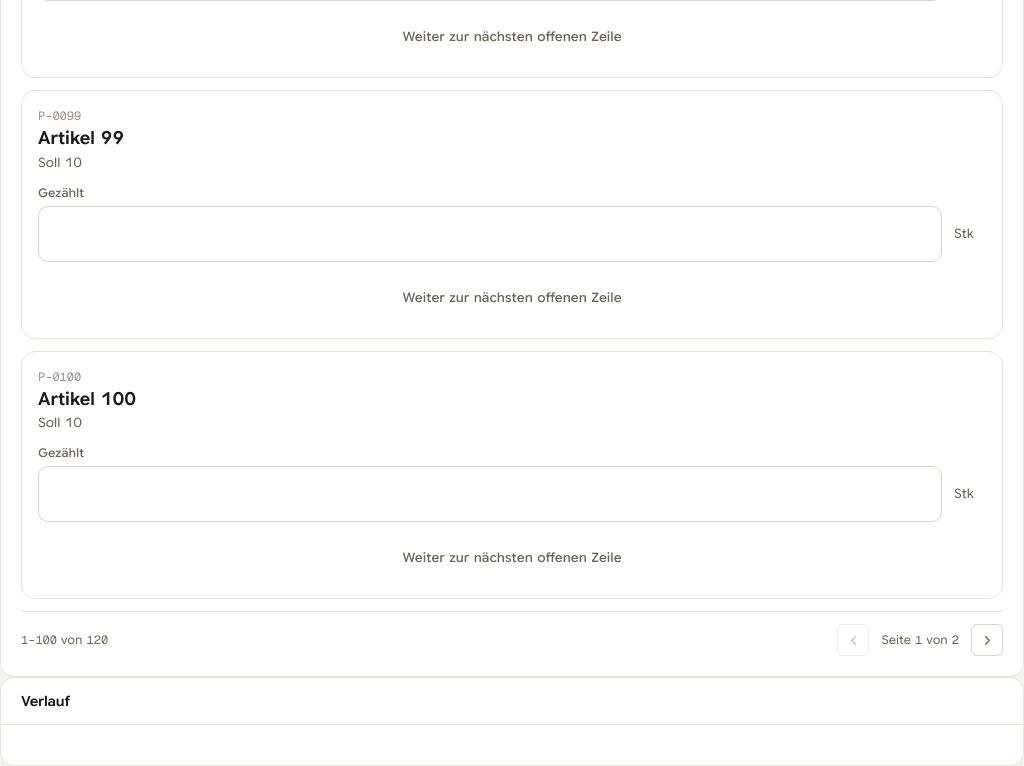
Test case: StocktakePage › stocktakePagePagesTheCardsAsWellTest
(page scrolled)
Click the button named "Nächste Seite" at (987, 640), box [971,624,1003,656]
(page scrolled)
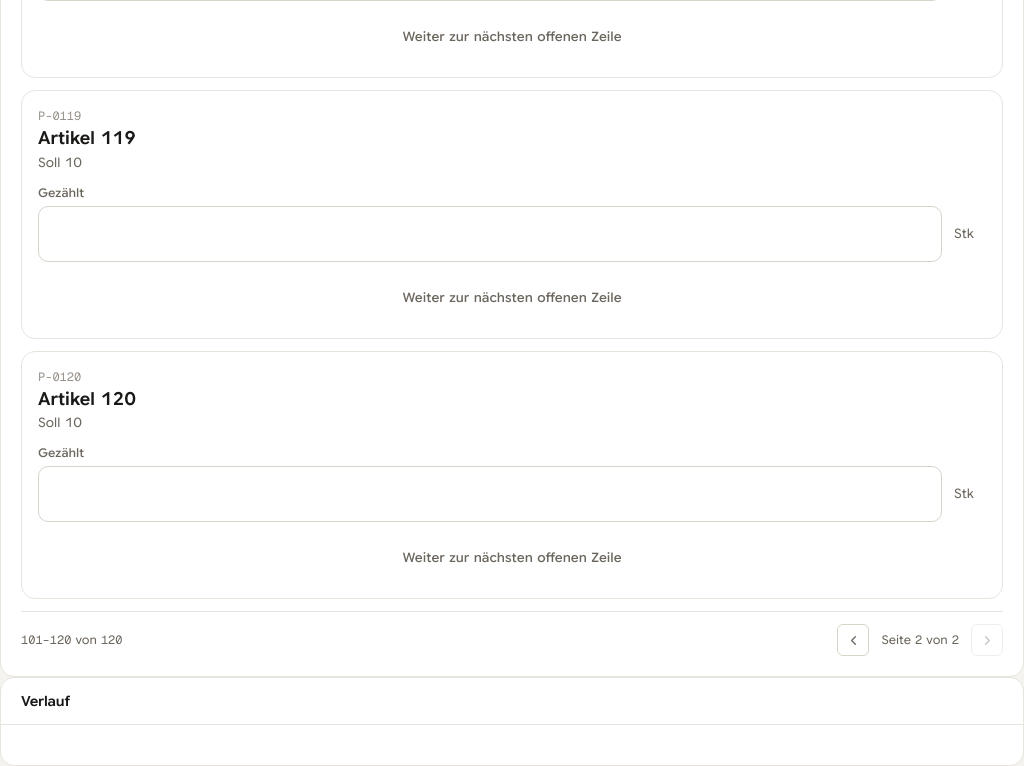
Expected: the text "Artikel 120" is shown, [38,388,136,410]
